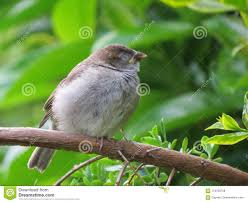hsparrow: (19, 44, 154, 172)
